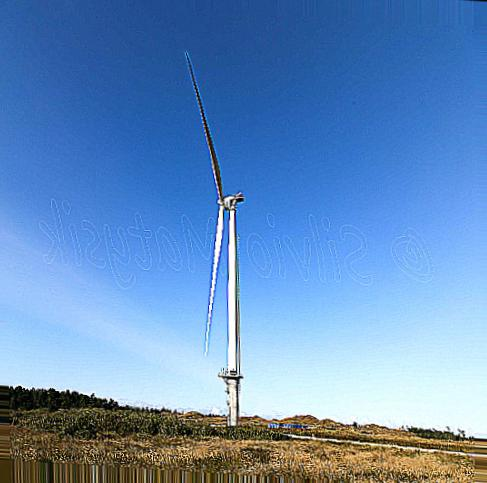wind turbine: (182, 50, 243, 424)
